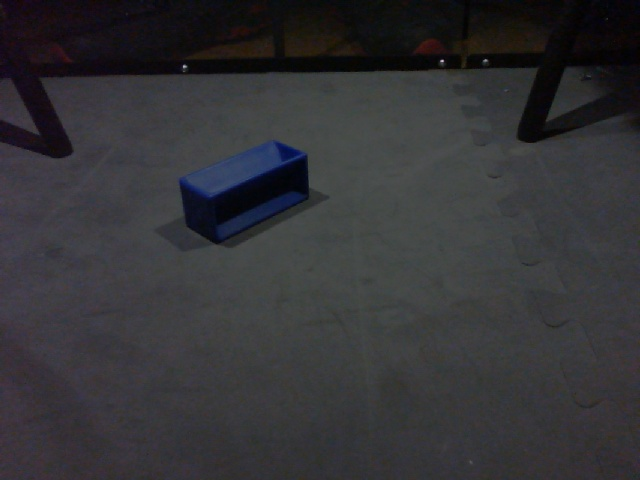BlueSample: (176, 133, 313, 258)
